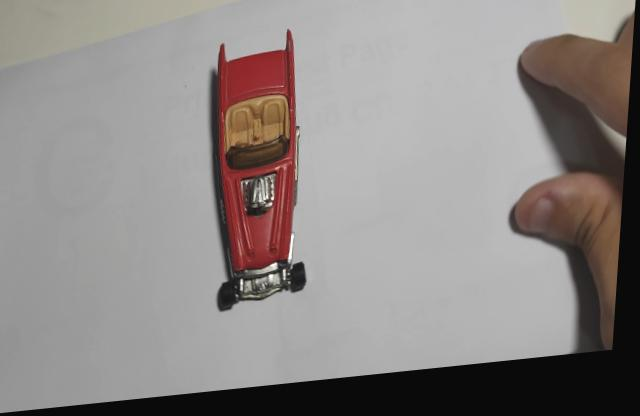03_V8: (211, 36, 312, 318)
